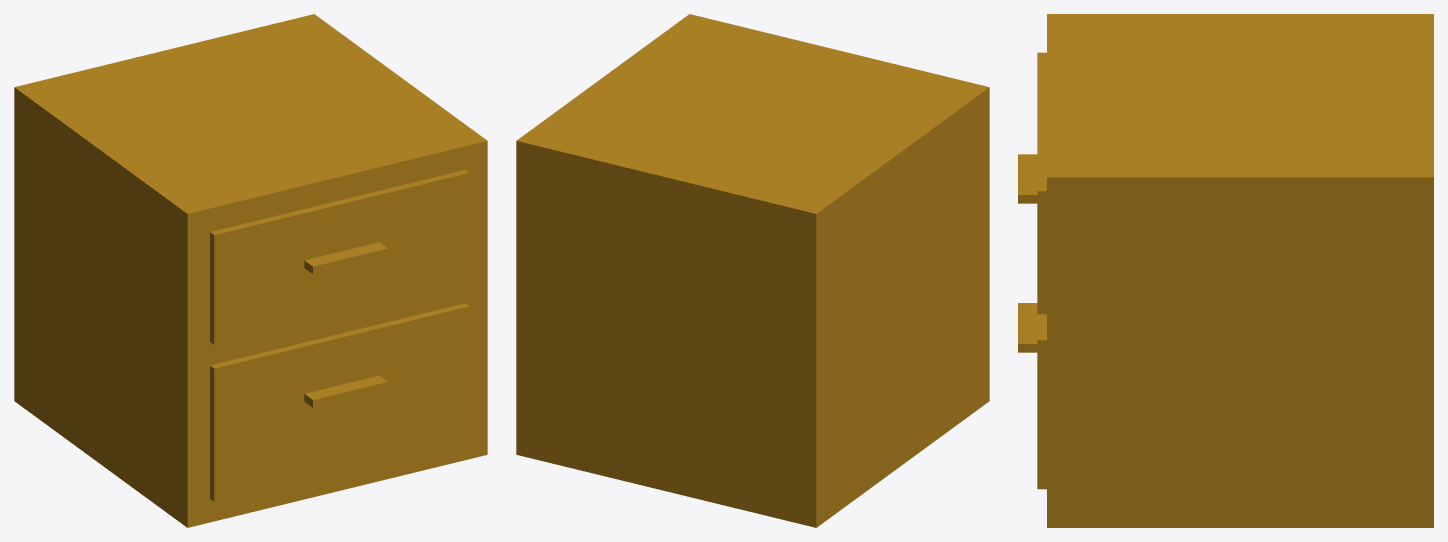
The model's file is cabinet-01.gltf.
3 renders of one model, left to right at view 1: azimuth 30°, elevation 25°; view 2: azimuth 150°, elevation 25°; view 3: azimuth 270°, elevation 25°, orthographic. The views are drawn at different scales.
Parts seen in each view (by area): view 1: object_5, object_4, object_3, object_1, object_2; view 2: object_5; view 3: object_5, object_3, object_4, object_1, object_2.
Part boxes in pixels (x1,y1,x2,y2): object_5: (14,14,487,527); object_4: (210,303,469,501); object_3: (210,170,469,344); object_1: (304,375,387,407); object_2: (304,242,387,274); object_5: (516,14,989,527); object_5: (1047,14,1433,527); object_3: (1037,52,1046,314); object_4: (1037,314,1046,489); object_1: (1018,303,1037,352); object_2: (1018,154,1037,203).
Bounding box in the file's own units: 40 × 40 × 43.
